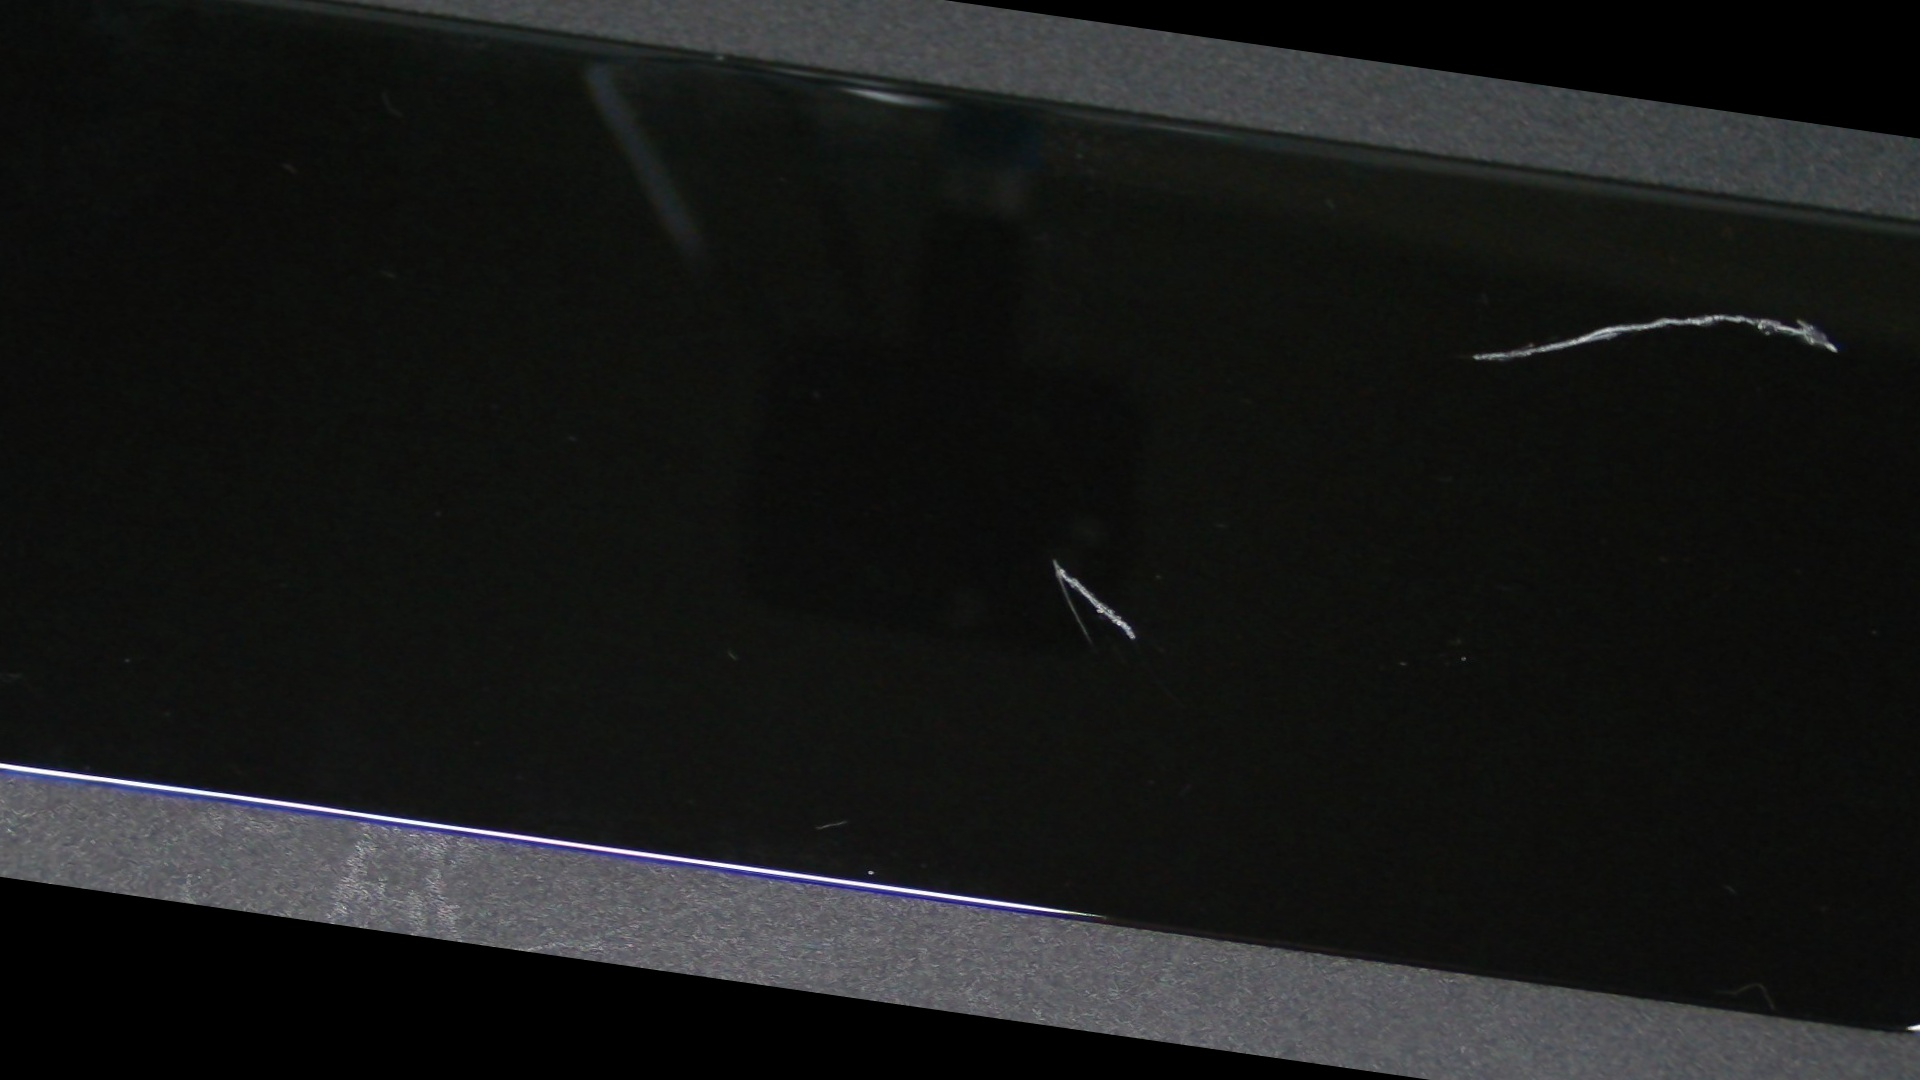oil: (407, 203, 1697, 914), (828, 86, 1920, 462)
